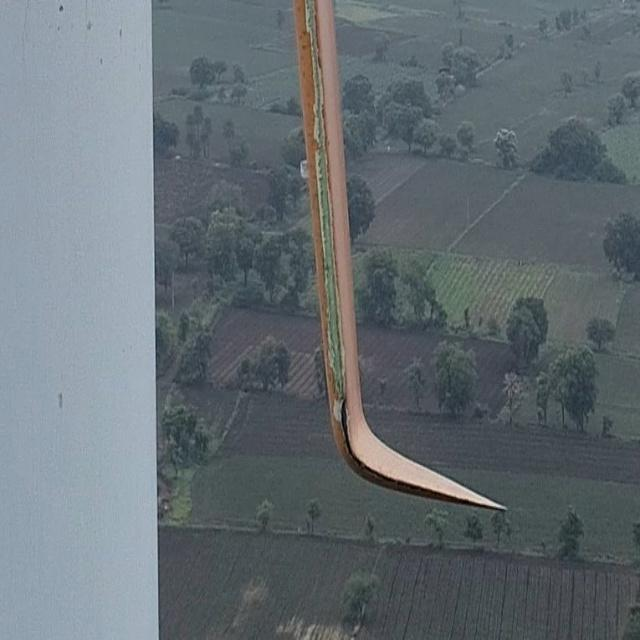EROSION: (317, 170, 350, 393), (304, 7, 330, 155), (331, 400, 371, 465)
